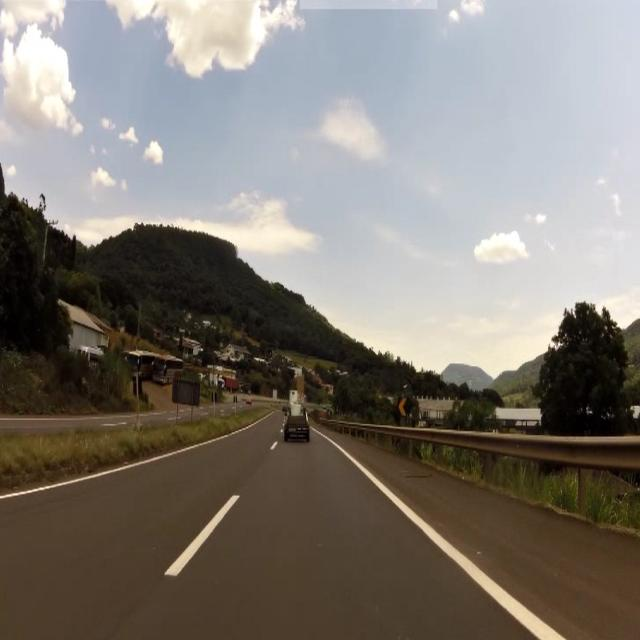Del: (399, 396, 413, 418)
